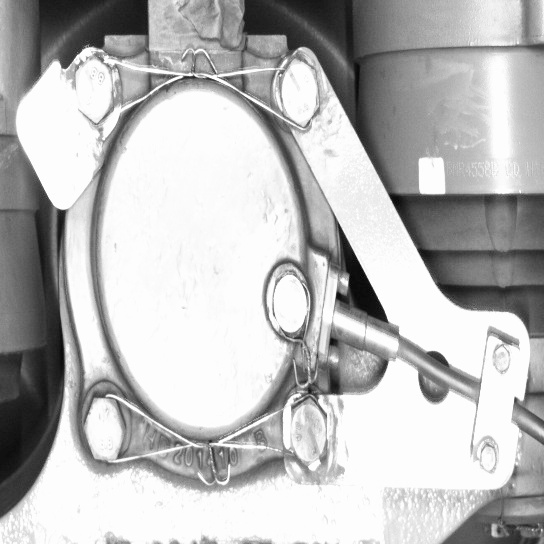IronWire: (67, 50, 325, 133), (77, 390, 332, 471)
Screw: (67, 50, 121, 128), (273, 51, 325, 132), (77, 390, 130, 467), (285, 392, 331, 470), (267, 267, 313, 340)
